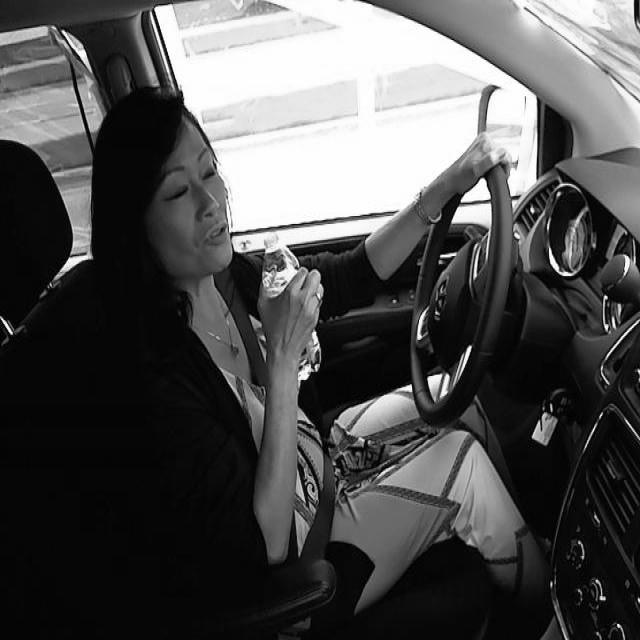Drinking: (262, 224, 320, 368)
